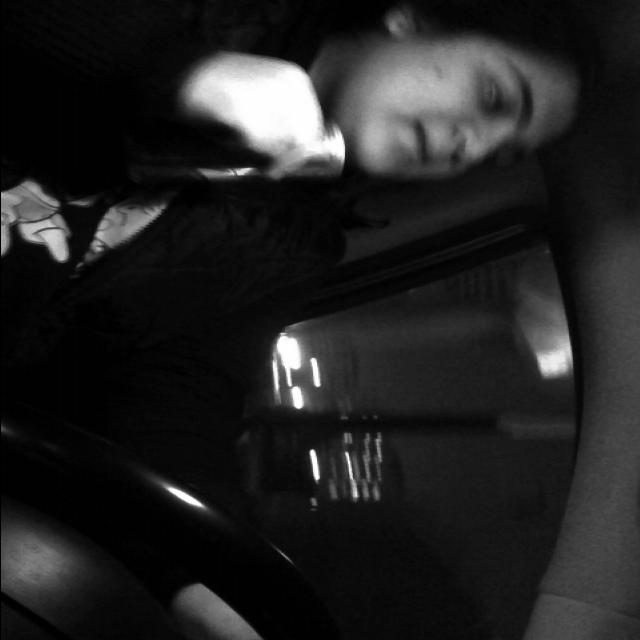drinking: (123, 118, 350, 202)
